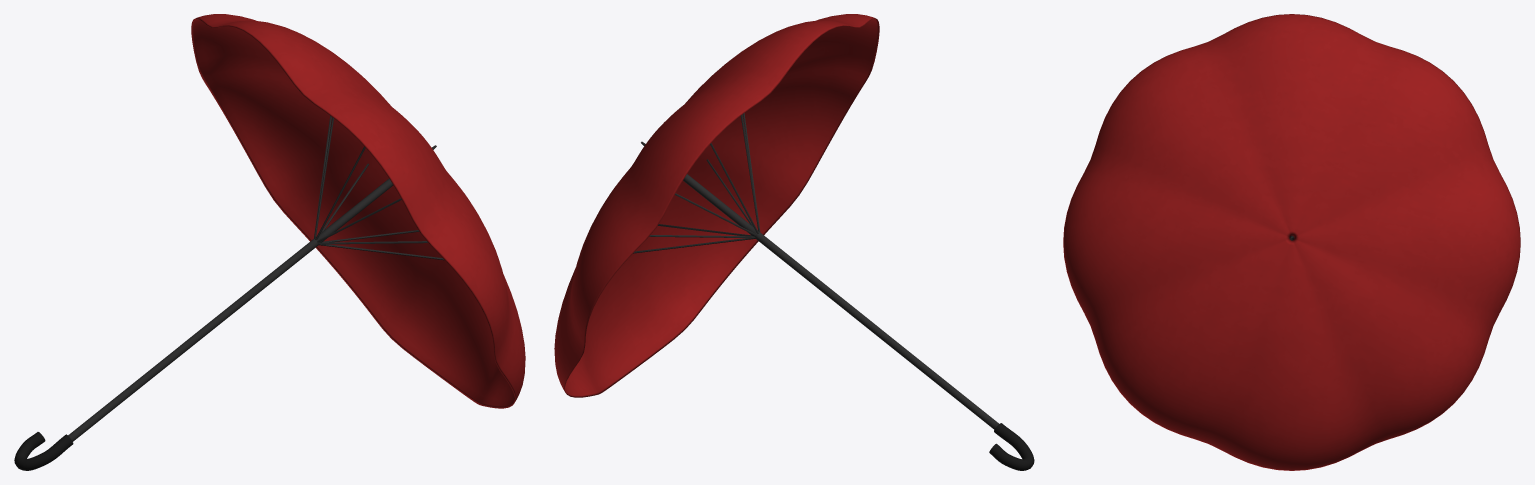
Rendered from open-red.glb.
The picture shows the model from 3 angles, left to right: view 1: azimuth 30°, elevation 25°; view 2: azimuth 150°, elevation 25°; view 3: azimuth 270°, elevation 25°; orthographic projection. The views are drawn at different scales.
Visible parts, largest first — view 1: fabric_primary_canopy, shaft, handle; view 2: fabric_primary_canopy, shaft, handle; view 3: fabric_primary_canopy.
Part boxes in pixels (x1=…): fabric_primary_canopy: x1=191, y1=14, x2=525, y2=408; shaft: x1=68, y1=116, x2=444, y2=441; handle: x1=14, y1=432, x2=73, y2=470; fabric_primary_canopy: x1=554, y1=14, x2=879, y2=397; shaft: x1=633, y1=113, x2=998, y2=429; handle: x1=989, y1=423, x2=1034, y2=470; fabric_primary_canopy: x1=1063, y1=14, x2=1520, y2=470.
Bounding box in the file's own units: 1.02 × 0.879 × 0.9928.
3 materials, 2 textured.
